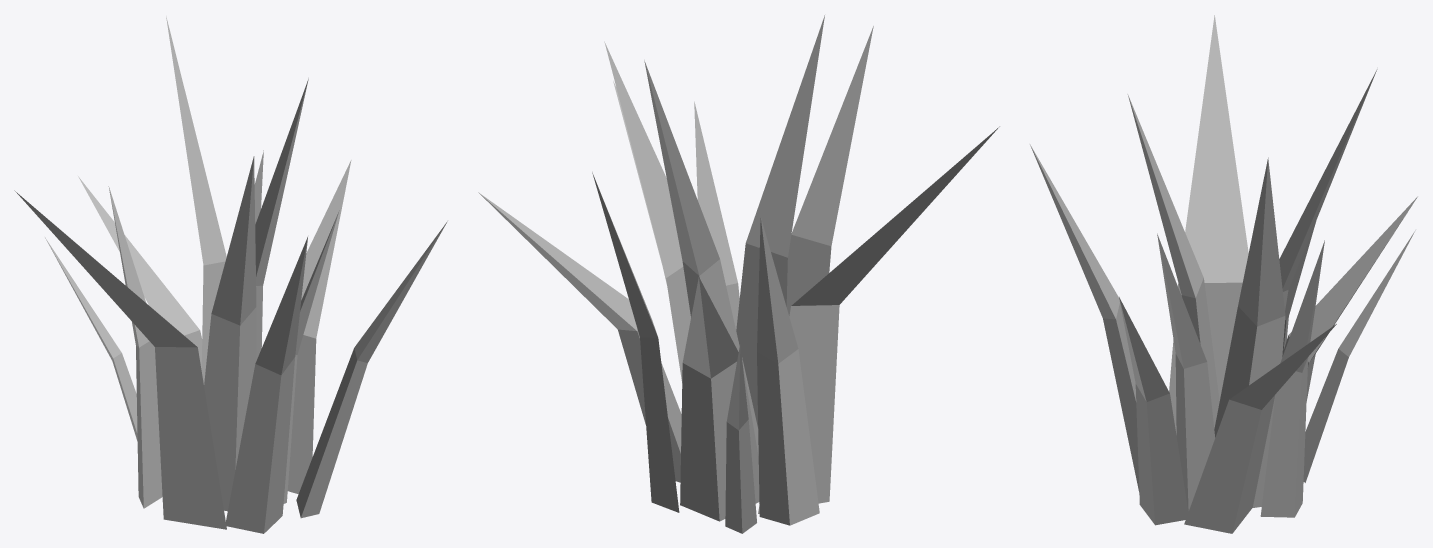
File: Grass_08.fbx
3 renders of one model, left to right at view 1: azimuth 30°, elevation 25°; view 2: azimuth 150°, elevation 25°; view 3: azimuth 270°, elevation 25°, orthographic. The views are drawn at different scales.
Parts seen in each view (by area): view 1: Grass_08; view 2: Grass_08; view 3: Grass_08.
Boxes of the visible parts, <box> form: Grass_08: <box>14,16,447,533</box>; Grass_08: <box>478,15,999,533</box>; Grass_08: <box>1030,15,1417,533</box>.
Bounding box in the file's own units: 0.8441 × 0.8757 × 0.7057.
